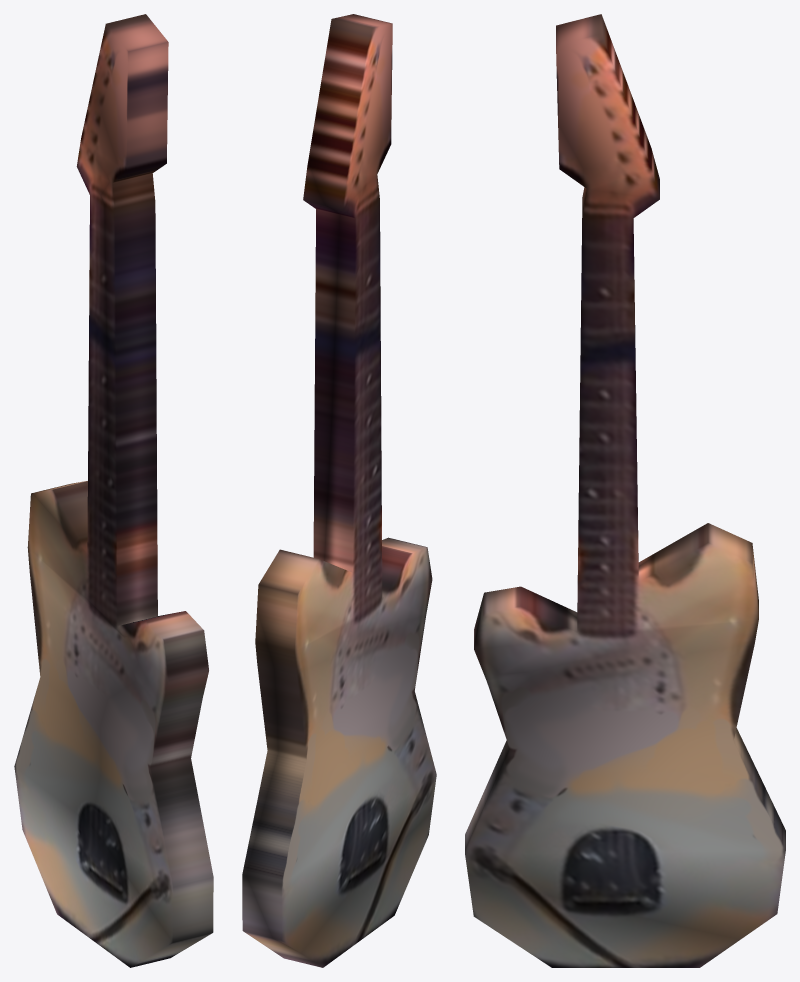
Rendered from guitar.glb.
3 renders of one model, left to right at view 1: azimuth 30°, elevation 25°; view 2: azimuth 150°, elevation 25°; view 3: azimuth 270°, elevation 25°, orthographic. The views are drawn at different scales.
Parts seen in each view (by area): view 1: Guitar; view 2: Guitar; view 3: Guitar.
Part boxes in pixels (x1=…): Guitar: x1=14, y1=14, x2=213, y2=967; Guitar: x1=242, y1=14, x2=436, y2=967; Guitar: x1=465, y1=14, x2=785, y2=967.
Size of the model in its own units: 0.128 by 2.57 by 0.8012.
1 material, 1 textured.
